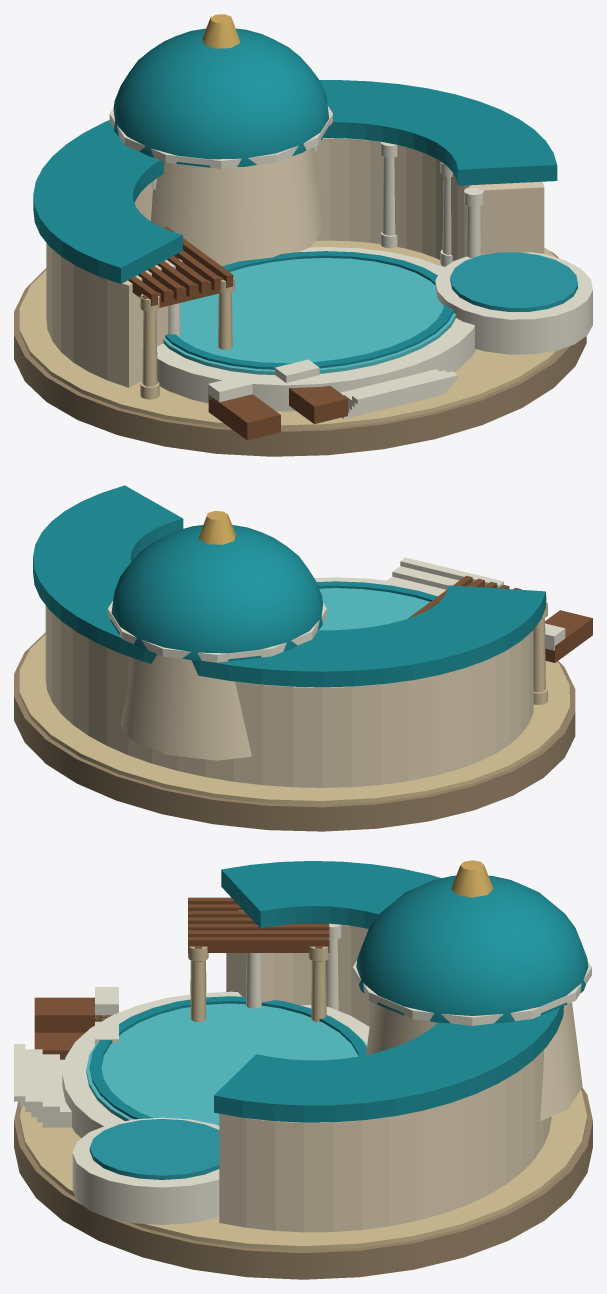
The model's file is recovery-center-lv3.glb.
The picture shows the model from 3 angles, top to bottom: view 1: azimuth 30°, elevation 25°; view 2: azimuth 150°, elevation 25°; view 3: azimuth 270°, elevation 25°; orthographic projection. The views are drawn at different scales.
Parts seen in each view (by area): view 1: crescent_roof_aqua, crescent_bathhouse_cream, water_pool, recovery_dome_aqua, foundation_stoneDark, recovery_pavilion_cream, foundation_sand, pool_terrace_white, raised_pool_white, side_water_water, body_white, sun_loungers_wood (+7 smaller); view 2: crescent_bathhouse_cream, crescent_roof_aqua, recovery_dome_aqua, foundation_stoneDark, foundation_sand, recovery_pavilion_cream, water_pool, pool_steps_white, recovery_dome_white, sun_loungers_wood, body_stone, dome_finial_gold (+3 smaller); view 3: crescent_bathhouse_cream, crescent_roof_aqua, recovery_dome_aqua, foundation_stoneDark, water_pool, foundation_sand, raised_pool_white, side_water_water, recovery_pergola_wood, recovery_pavilion_cream, pool_terrace_white, pool_steps_white (+7 smaller).
Boxes of the visible parts, box(x1,y1,x2,y2) form: crescent_roof_aqua: box(33, 80, 557, 283); crescent_bathhouse_cream: box(46, 138, 544, 387); water_pool: box(163, 258, 456, 374); recovery_dome_aqua: box(113, 28, 330, 167); foundation_stoneDark: box(14, 251, 586, 456); recovery_pavilion_cream: box(151, 147, 324, 266); foundation_sand: box(19, 240, 561, 429); pool_terrace_white: box(157, 247, 476, 411); raised_pool_white: box(435, 252, 592, 354); side_water_water: box(450, 252, 577, 311); body_white: box(151, 142, 483, 336); sun_loungers_wood: box(208, 385, 347, 440); crescent_bathhouse_cream: box(45, 605, 533, 787); crescent_roof_aqua: box(33, 485, 545, 687); recovery_dome_aqua: box(110, 525, 322, 661); foundation_stoneDark: box(14, 632, 575, 831); foundation_sand: box(19, 634, 569, 804); recovery_pavilion_cream: box(120, 654, 251, 760); water_pool: box(318, 588, 429, 630); pool_steps_white: box(387, 557, 503, 591); recovery_dome_white: box(107, 601, 326, 662); sun_loungers_wood: box(545, 610, 592, 662); body_stone: box(471, 583, 547, 704); dome_finial_gold: box(198, 511, 235, 544); crescent_bathhouse_cream: box(219, 910, 551, 1232); crescent_roof_aqua: box(214, 861, 563, 1122); recovery_dome_aqua: box(356, 875, 588, 1023); foundation_stoneDark: box(14, 1087, 592, 1279); water_pool: box(86, 1003, 366, 1125); foundation_sand: box(19, 1089, 587, 1250); raised_pool_white: box(72, 1117, 219, 1224); side_water_water: box(89, 1119, 219, 1179); recovery_pergola_wood: box(188, 897, 329, 961); recovery_pavilion_cream: box(366, 1002, 582, 1120); pool_terrace_white: box(62, 991, 369, 1137); pool_steps_white: box(14, 1044, 71, 1127).
Bounding box in the file's own units: 1 × 0.4959 × 0.9231.
